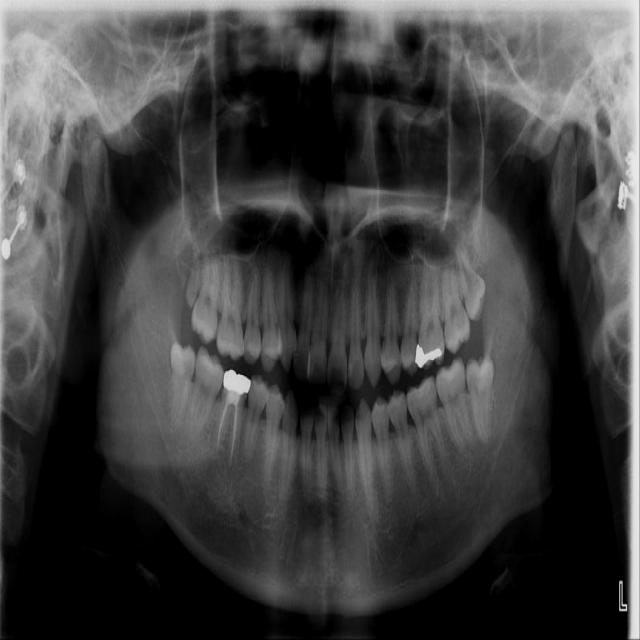Crown: (223, 370, 252, 396)
Filling: (415, 345, 441, 368)
impacted tooth: (465, 356, 495, 441), (166, 343, 194, 429)
